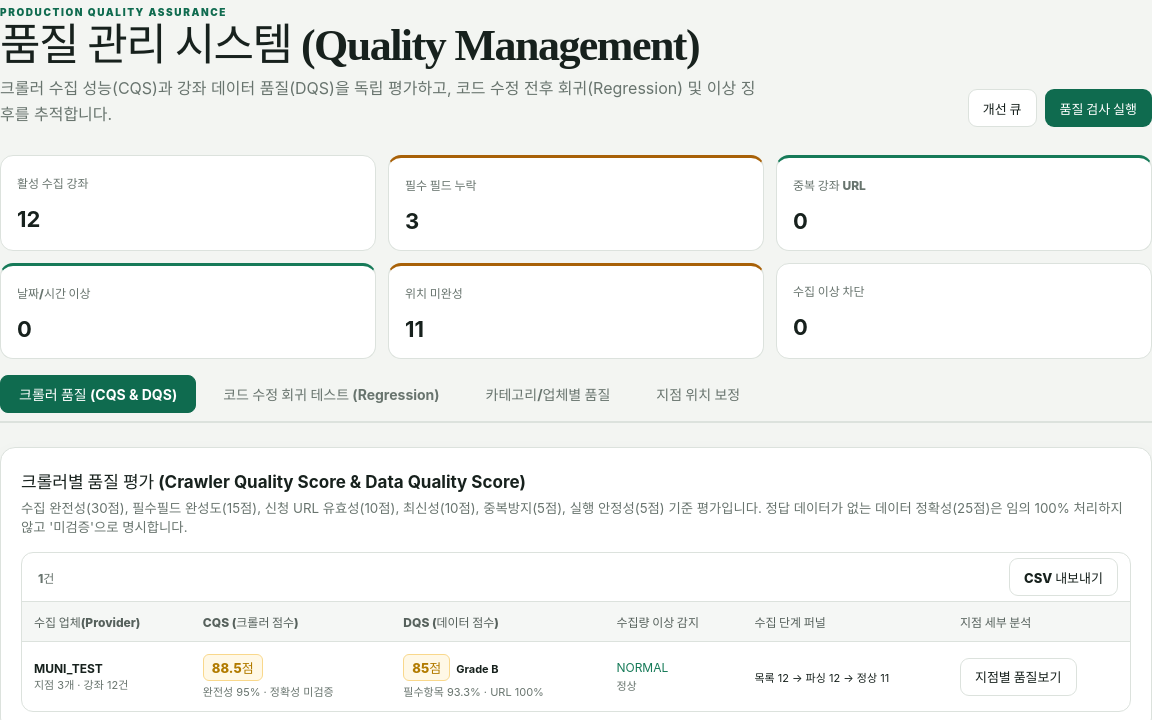
Test: QualityPage category quality › renders crawler quality CQS/DQS scores, funnel, and regression diff tabs
The width and height of the screenshot is (1152, 720).
Check: the heading "크롤러별 품질 평가 (Crawler Quality Score & Data Quality Score)" is shown, box [21,472,526,492]
Check: the text "88.5점" is shown, box [203,654,263,681]
# Switch to Regression Tab
Click the button "코드 수정 회귀 테스트 (Regression)" at [331, 394], box [204,375,459,413]
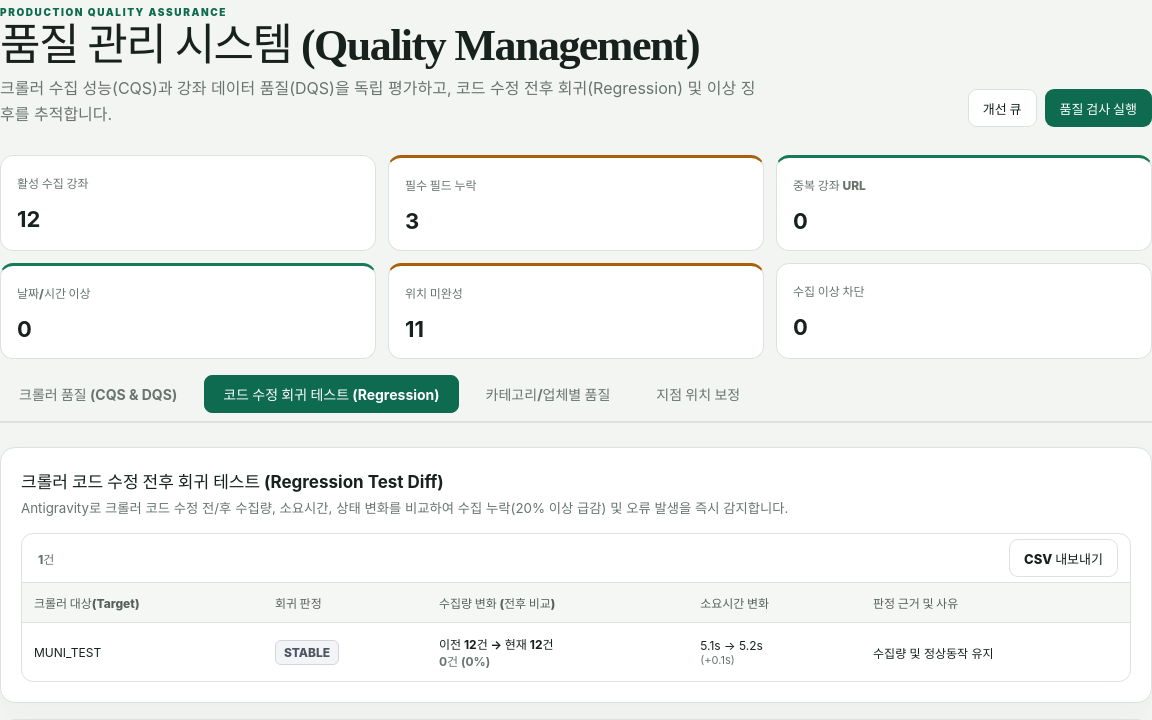
Check: the heading "크롤러 코드 수정 전후 회귀 테스트 (Regression Test Diff)" is shown, box [21,472,444,492]
Check: the text "STABLE" is shown, box [275,640,339,665]
